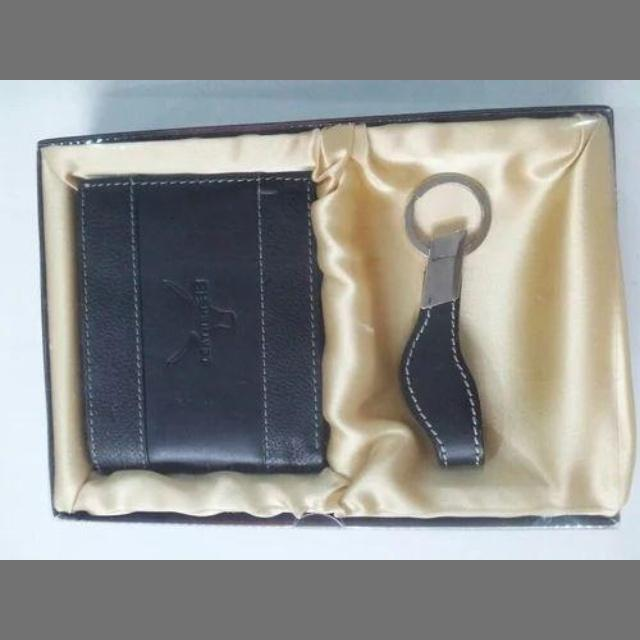Wallet: (83, 162, 320, 478)
